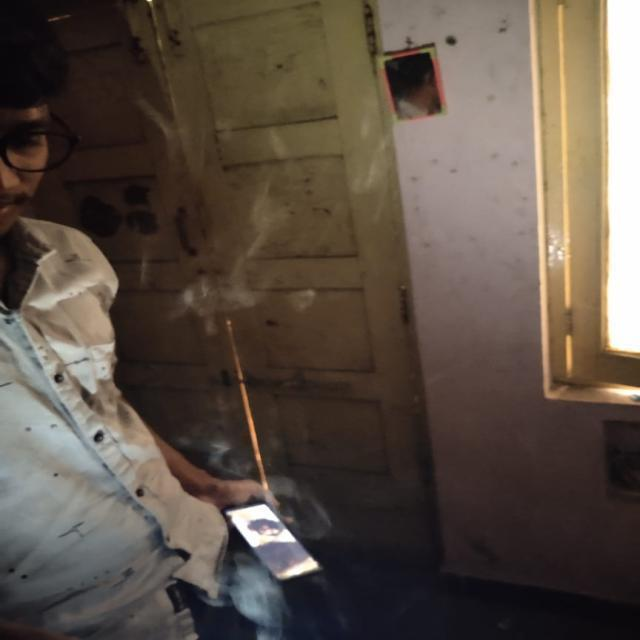fire: (170, 168, 322, 328)
